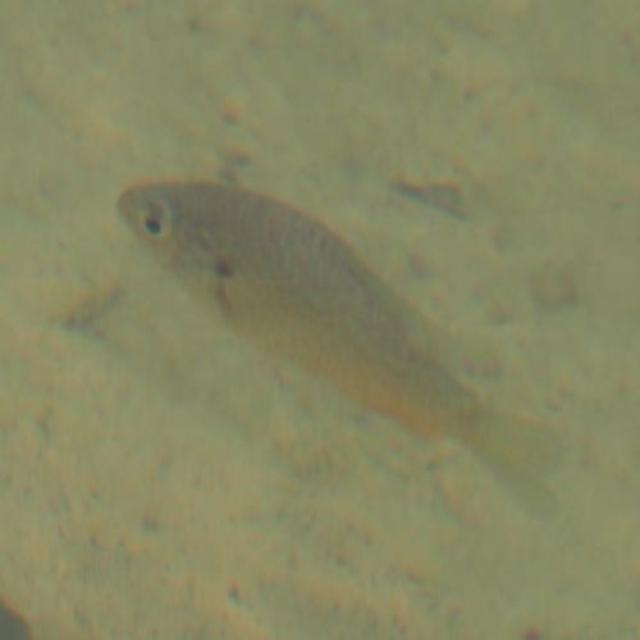Gunes Levregi: (112, 165, 583, 540)
